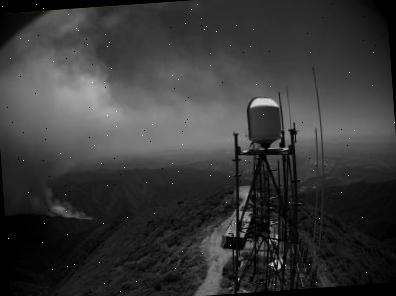smoke: (0, 55, 102, 228)
